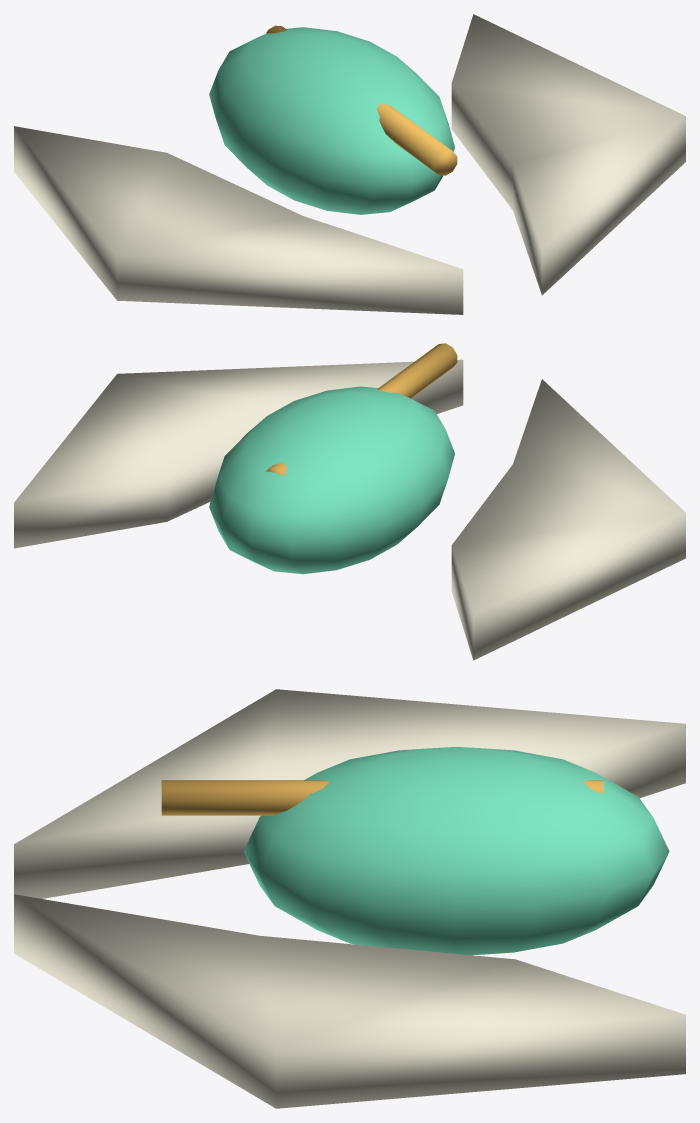
The model's file is life.glb.
3 renders of one model, top to bottom at view 1: azimuth 30°, elevation 25°; view 2: azimuth 150°, elevation 25°; view 3: azimuth 270°, elevation 25°, orthographic. The views are drawn at different scales.
Visible parts, largest first — view 1: Sheltering wing left, Sheltering wing right, Protected life seed, Golden vein; view 2: Sheltering wing left, Sheltering wing right, Protected life seed, Golden vein; view 3: Sheltering wing right, Protected life seed, Sheltering wing left, Golden vein.
Boxes of the visible parts, box(x1,y1,x2,y2) form: Sheltering wing left: box(14, 126, 463, 314); Sheltering wing right: box(451, 14, 685, 295); Protected life seed: box(209, 27, 454, 214); Golden vein: box(266, 25, 457, 175); Sheltering wing left: box(451, 379, 685, 660); Sheltering wing right: box(14, 359, 463, 548); Protected life seed: box(209, 386, 454, 574); Golden vein: box(266, 343, 457, 475); Sheltering wing right: box(14, 894, 685, 1108); Protected life seed: box(243, 747, 669, 955); Sheltering wing left: box(14, 689, 685, 898); Golden vein: box(161, 780, 603, 815).
Size of the model in its own units: 2.6 by 0.6 by 2.05.
